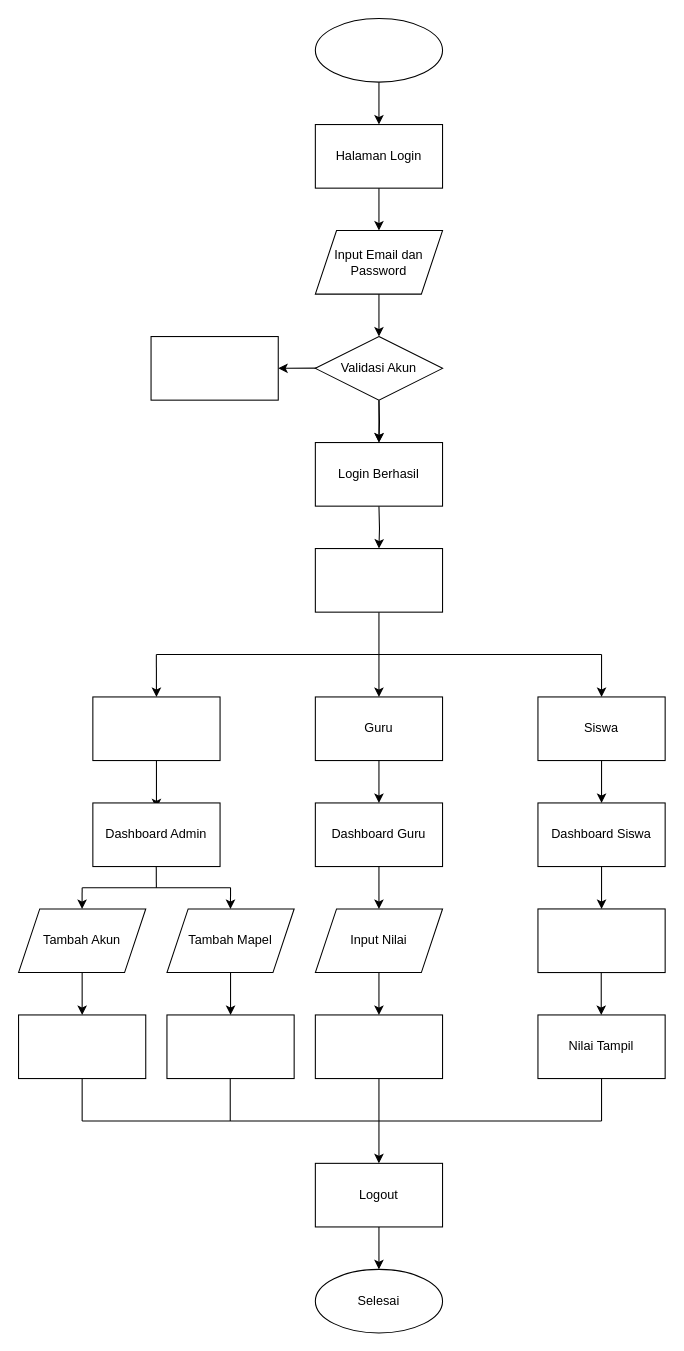
This 684x1351 diagram has some shape labels left out. Here are the shapes that lost their labels. From the top down, the centre of each, then its label:
At (378,49): "Mulai".
At (214,367): "Login Gagal".
At (378,579): "Cek Level Pengguna".
At (156,728): "Admin".
At (601,940): "Lihat Nilai".
At (81,1046): "Simpan Akun".
At (230,1046): "Simpan Mapel".
At (378,1046): "Simpan Nilai".
